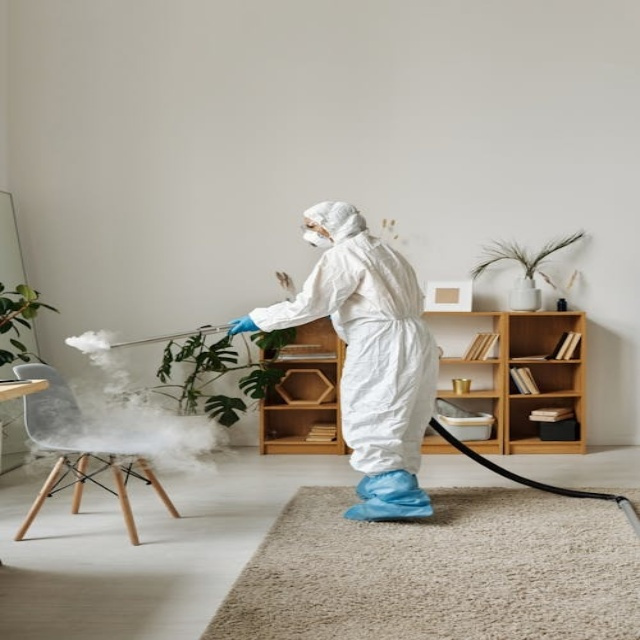Gafas: (299, 223, 318, 234)
Guantes: (227, 315, 261, 335)
Mascara: (301, 227, 329, 248)
